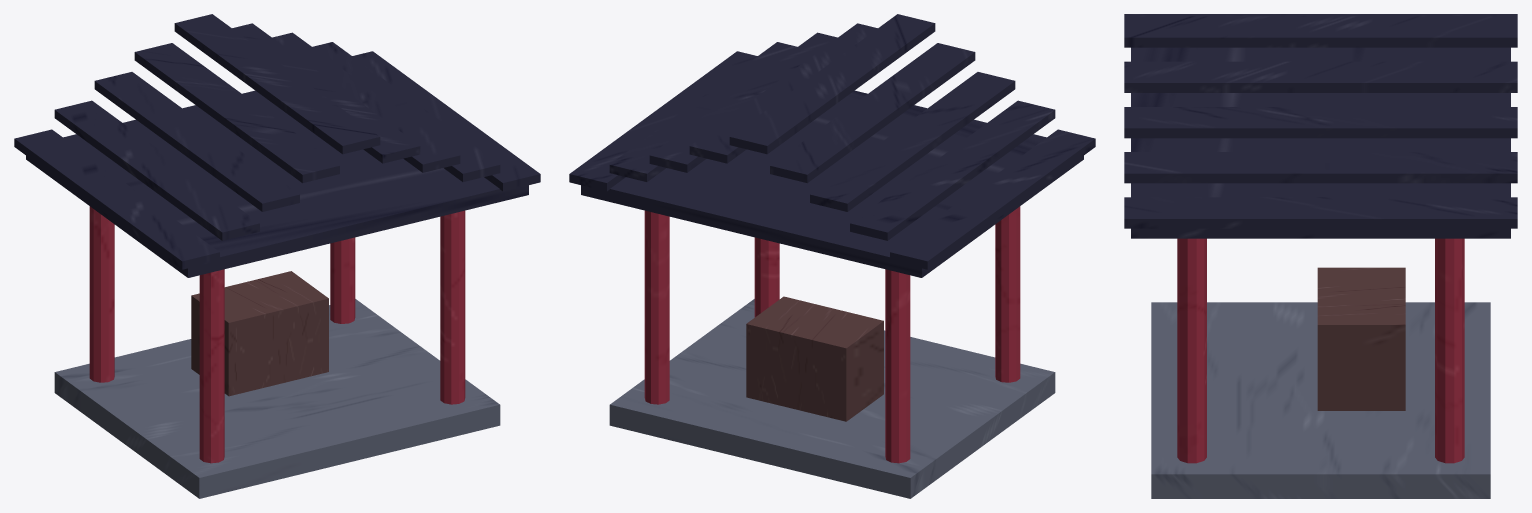
The model's file is dojo_shrine_pavilion_lod1.glb.
The picture shows the model from 3 angles, left to right: view 1: azimuth 30°, elevation 25°; view 2: azimuth 150°, elevation 25°; view 3: azimuth 270°, elevation 25°; orthographic projection. The views are drawn at different scales.
Visible parts, largest first — view 1: dojo_shrine_pavilion_000, dojo_shrine_pavilion_005, dojo_shrine_pavilion_015, dojo_shrine_pavilion_010, dojo_shrine_pavilion_006, dojo_shrine_pavilion_009, dojo_shrine_pavilion_007, dojo_shrine_pavilion_008, dojo_shrine_pavilion_004, dojo_shrine_pavilion_002, dojo_shrine_pavilion_001, dojo_shrine_pavilion_011 (+4 smaller); view 2: dojo_shrine_pavilion_000, dojo_shrine_pavilion_005, dojo_shrine_pavilion_015, dojo_shrine_pavilion_010, dojo_shrine_pavilion_006, dojo_shrine_pavilion_009, dojo_shrine_pavilion_007, dojo_shrine_pavilion_008, dojo_shrine_pavilion_003, dojo_shrine_pavilion_001, dojo_shrine_pavilion_002, dojo_shrine_pavilion_011 (+4 smaller); view 3: dojo_shrine_pavilion_000, dojo_shrine_pavilion_005, dojo_shrine_pavilion_015, dojo_shrine_pavilion_010, dojo_shrine_pavilion_011, dojo_shrine_pavilion_012, dojo_shrine_pavilion_013, dojo_shrine_pavilion_014, dojo_shrine_pavilion_003, dojo_shrine_pavilion_004, dojo_shrine_pavilion_009.
Boxes of the visible parts, bbox=[...] form: dojo_shrine_pavilion_000: bbox=[54, 299, 500, 498]; dojo_shrine_pavilion_005: bbox=[26, 90, 528, 277]; dojo_shrine_pavilion_015: bbox=[191, 271, 328, 396]; dojo_shrine_pavilion_010: bbox=[174, 14, 380, 154]; dojo_shrine_pavilion_006: bbox=[14, 129, 219, 269]; dojo_shrine_pavilion_009: bbox=[134, 43, 339, 183]; dojo_shrine_pavilion_007: bbox=[54, 100, 259, 240]; dojo_shrine_pavilion_008: bbox=[94, 72, 299, 211]; dojo_shrine_pavilion_004: bbox=[440, 210, 465, 404]; dojo_shrine_pavilion_002: bbox=[199, 269, 224, 463]; dojo_shrine_pavilion_001: bbox=[89, 206, 114, 382]; dojo_shrine_pavilion_011: bbox=[232, 23, 420, 163]; dojo_shrine_pavilion_000: bbox=[609, 299, 1055, 498]; dojo_shrine_pavilion_005: bbox=[581, 90, 1083, 277]; dojo_shrine_pavilion_015: bbox=[746, 296, 883, 421]; dojo_shrine_pavilion_010: bbox=[729, 14, 935, 154]; dojo_shrine_pavilion_006: bbox=[890, 129, 1095, 269]; dojo_shrine_pavilion_009: bbox=[770, 43, 975, 183]; dojo_shrine_pavilion_007: bbox=[850, 100, 1055, 240]; dojo_shrine_pavilion_008: bbox=[810, 72, 1015, 211]; dojo_shrine_pavilion_003: bbox=[644, 210, 669, 404]; dojo_shrine_pavilion_001: bbox=[885, 269, 910, 463]; dojo_shrine_pavilion_002: bbox=[995, 206, 1020, 382]; dojo_shrine_pavilion_011: bbox=[689, 23, 877, 163]; dojo_shrine_pavilion_000: bbox=[1151, 302, 1490, 498]; dojo_shrine_pavilion_005: bbox=[1131, 47, 1510, 238]; dojo_shrine_pavilion_015: bbox=[1317, 267, 1405, 410]; dojo_shrine_pavilion_010: bbox=[1124, 16, 1517, 47]; dojo_shrine_pavilion_011: bbox=[1124, 61, 1517, 92]; dojo_shrine_pavilion_012: bbox=[1124, 107, 1517, 138]; dojo_shrine_pavilion_013: bbox=[1124, 152, 1517, 183]; dojo_shrine_pavilion_014: bbox=[1124, 197, 1517, 228]; dojo_shrine_pavilion_003: bbox=[1435, 238, 1464, 463]; dojo_shrine_pavilion_004: bbox=[1177, 238, 1206, 463]; dojo_shrine_pavilion_009: bbox=[1124, 15, 1517, 16].
Size of the model in its own units: 7.15 by 6.28 by 5.8.
4 materials, 4 textured.
